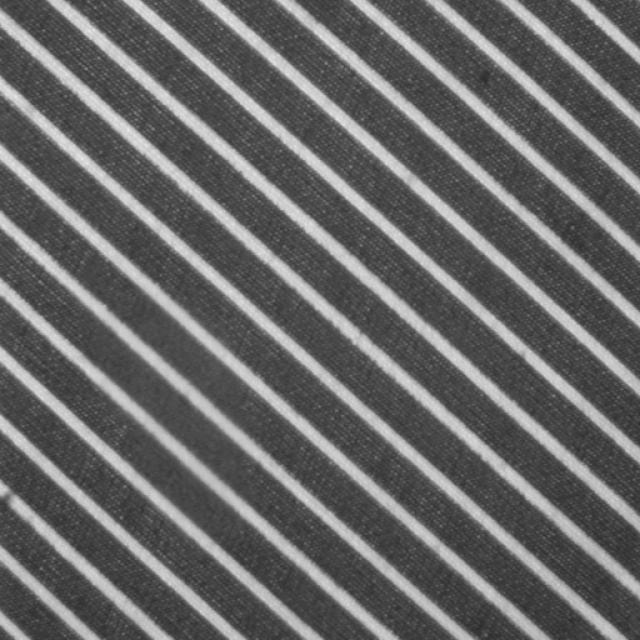Stain-Defect: (59, 244, 270, 560)
